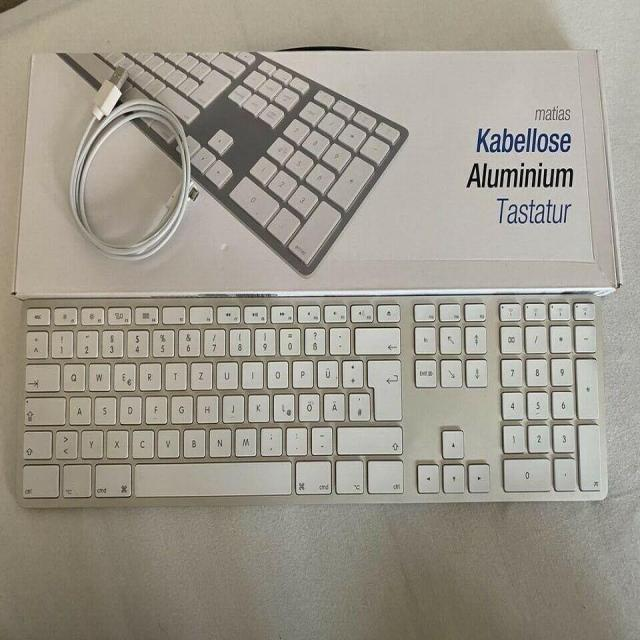0: (278, 324, 300, 353)
1: (49, 327, 72, 357)
2: (75, 327, 97, 356)
3: (99, 326, 123, 356)
4: (125, 326, 147, 356)
5: (150, 326, 173, 356)
6: (176, 325, 199, 355)
7: (201, 325, 224, 355)
8: (227, 325, 249, 354)
9: (252, 325, 275, 354)
a: (67, 393, 89, 423)
accent: (327, 324, 349, 352)
ae: (322, 390, 344, 420)
alt-left: (60, 460, 91, 497)
altgr-right: (333, 459, 365, 495)
b: (181, 425, 204, 455)
c: (129, 426, 153, 456)
caret: (23, 327, 46, 356)
comma: (258, 423, 281, 454)
d: (117, 393, 140, 422)
del: (352, 323, 401, 352)
e: (111, 359, 134, 389)
enter: (365, 355, 400, 419)
f: (144, 392, 166, 422)
g: (169, 392, 191, 421)
h: (195, 391, 217, 421)
hash: (346, 389, 368, 419)
i: (240, 357, 262, 387)
j: (221, 391, 242, 421)
k: (245, 391, 268, 421)
keyboard: (13, 285, 611, 507), (54, 49, 416, 280)
l: (272, 390, 294, 421)
less: (53, 427, 76, 457)
m: (233, 424, 255, 454)
minus: (309, 423, 331, 453)
n: (207, 425, 230, 455)
o: (265, 357, 287, 387)
oe: (296, 390, 319, 420)
p: (290, 356, 312, 386)
plus: (340, 356, 362, 386)
point: (283, 423, 306, 453)
q: (61, 359, 84, 389)
r: (137, 359, 159, 389)
s: (92, 393, 115, 423)
shift-left: (19, 427, 50, 458)
shift-lock: (22, 393, 64, 423)
shift-right: (335, 423, 401, 453)
space: (132, 457, 291, 495)
ss: (302, 324, 325, 353)
strg-left: (19, 460, 58, 497)
strg-right: (364, 456, 404, 492)
t: (163, 358, 185, 388)
tab: (22, 360, 58, 390)
u: (214, 358, 237, 388)
ue: (315, 356, 337, 386)
v: (155, 425, 178, 456)
w: (87, 359, 109, 389)
x: (104, 426, 127, 456)
y: (79, 426, 101, 456)
z: (189, 358, 211, 388)
